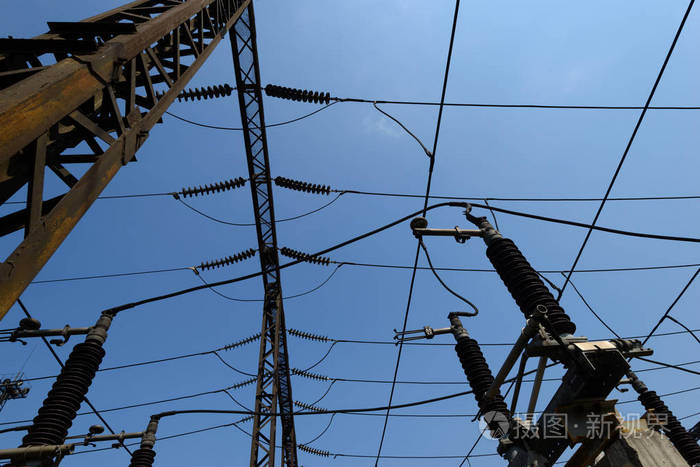insulator: (262, 84, 331, 109), (179, 176, 244, 200), (279, 242, 333, 268), (200, 248, 254, 273), (177, 81, 233, 104), (274, 176, 335, 197), (290, 364, 332, 384), (223, 330, 262, 351), (287, 328, 330, 345), (231, 378, 255, 390)
